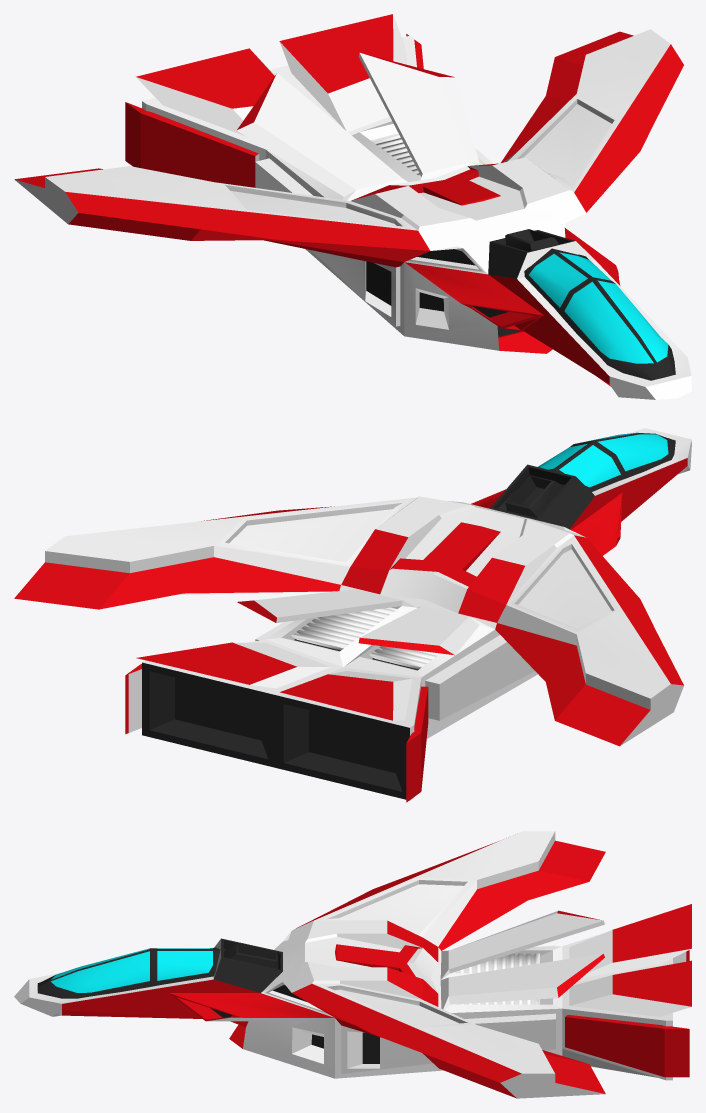
Rendered from Pelican2.fbx.
3 renders of one model, top to bottom at view 1: azimuth 30°, elevation 25°; view 2: azimuth 150°, elevation 25°; view 3: azimuth 270°, elevation 25°, orthographic. The views are drawn at different scales.
Visible parts, largest first — view 1: Hull, Cockpit; view 2: Hull, Cockpit; view 3: Hull, Cockpit.
Part boxes in pixels (left/top/right/bottom): Hull: left=14, top=14, right=691, bottom=399; Cockpit: left=524, top=248, right=675, bottom=380; Hull: left=14, top=428, right=691, bottom=802; Cockpit: left=538, top=432, right=675, bottom=491; Hull: left=14, top=831, right=691, bottom=1098; Cockpit: left=37, top=947, right=220, bottom=998.
Size of the model in its own units: 1549 by 374 by 1831.
